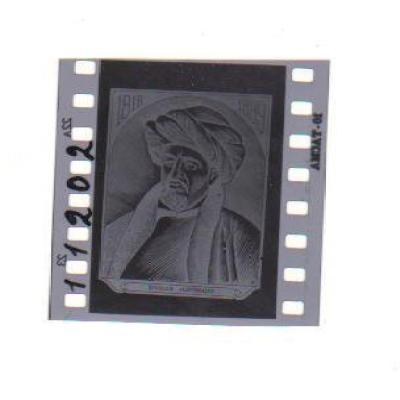photos_negatives: (104, 71, 264, 312)
